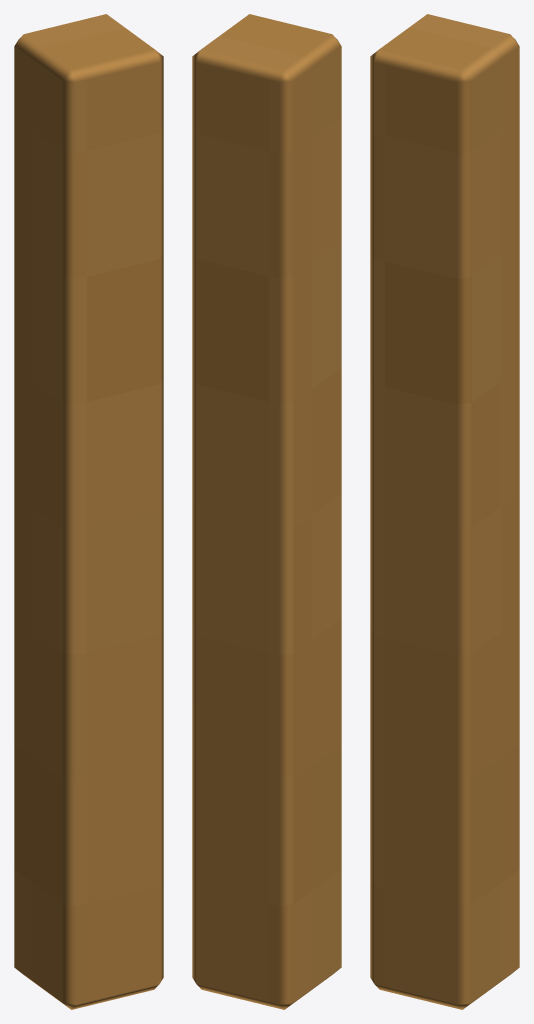
File: Brass-corner-post.glb
3 views of the same model, side by side, from view 1: azimuth 30°, elevation 25°; view 2: azimuth 150°, elevation 25°; view 3: azimuth 330°, elevation 25° (orthographic).
Visible parts, largest first — view 1: Brass-corner-post; view 2: Brass-corner-post; view 3: Brass-corner-post.
Part boxes in pixels (left/top/right/bottom): Brass-corner-post: left=14, top=14, right=163, bottom=1009; Brass-corner-post: left=192, top=14, right=341, bottom=1009; Brass-corner-post: left=370, top=14, right=519, bottom=1009.
Bounding box in the file's own units: 0.033 × 0.293 × 0.033.
1 material, 1 textured.
